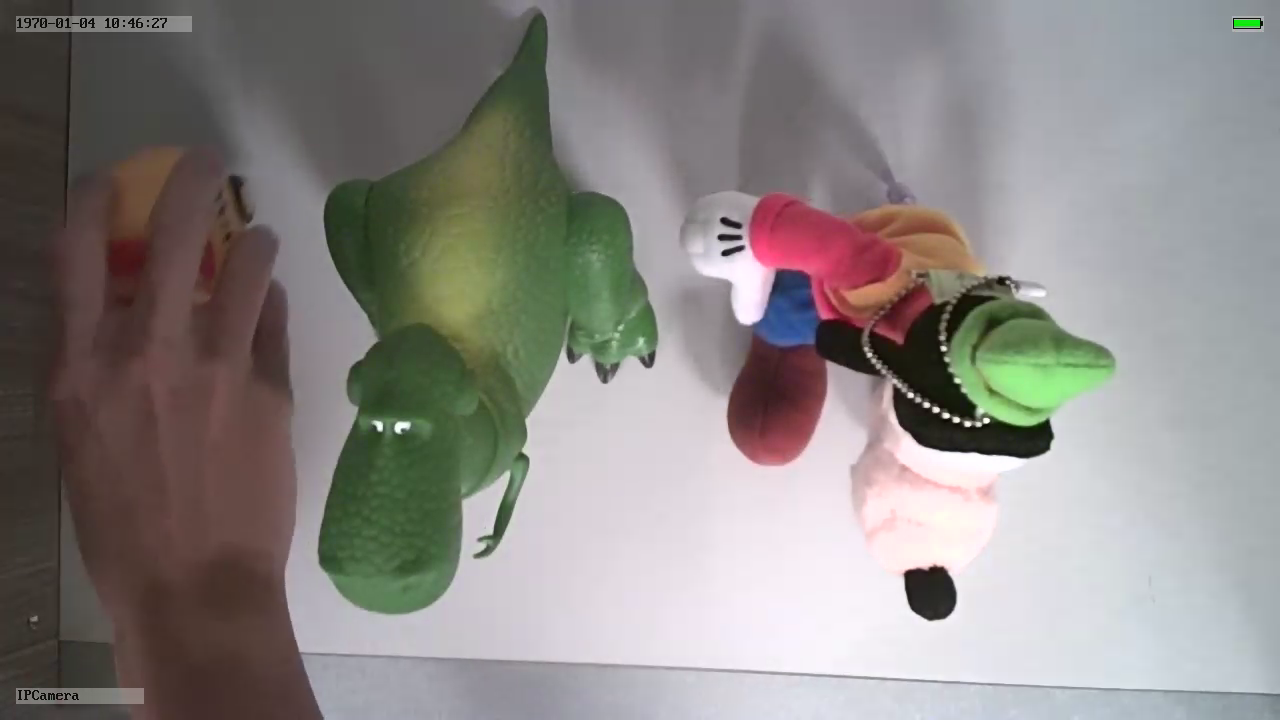goofy: (672, 187, 1118, 623)
